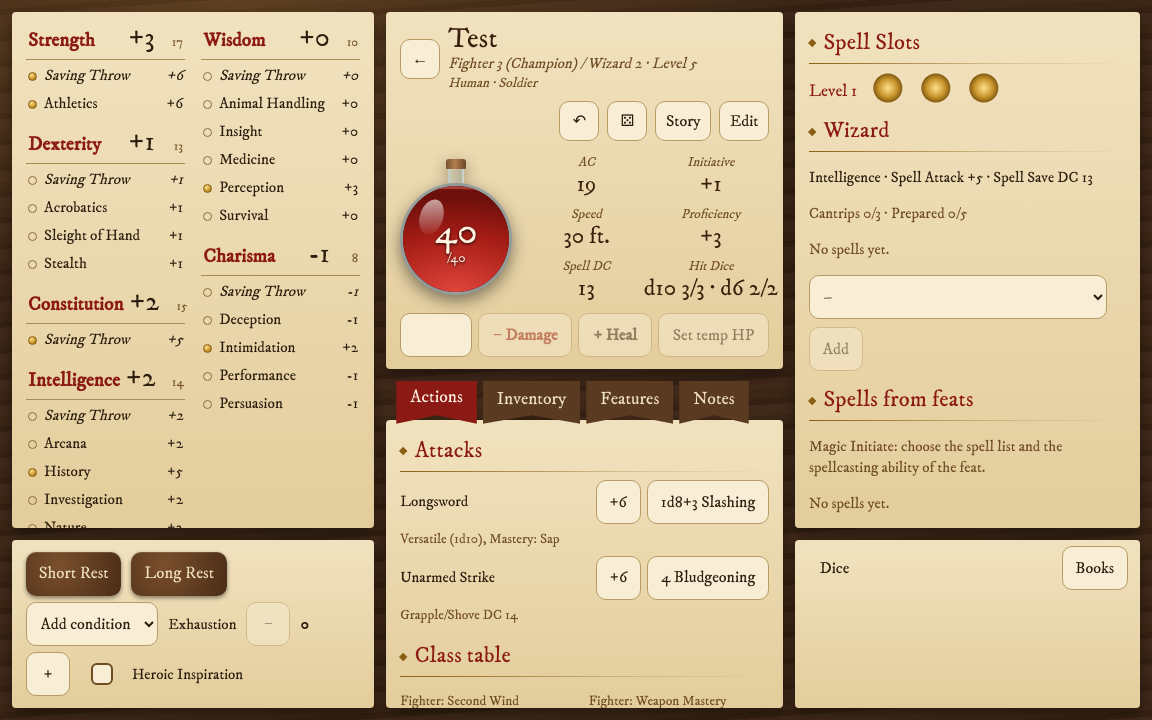
Test: features tab › groups features with SRD text and adds an override that changes the AC
Check: the element with test id "hp" is shown, box [435,208,478,267]
Click the tab "Features" at (630, 402), box [586,381,673,424]
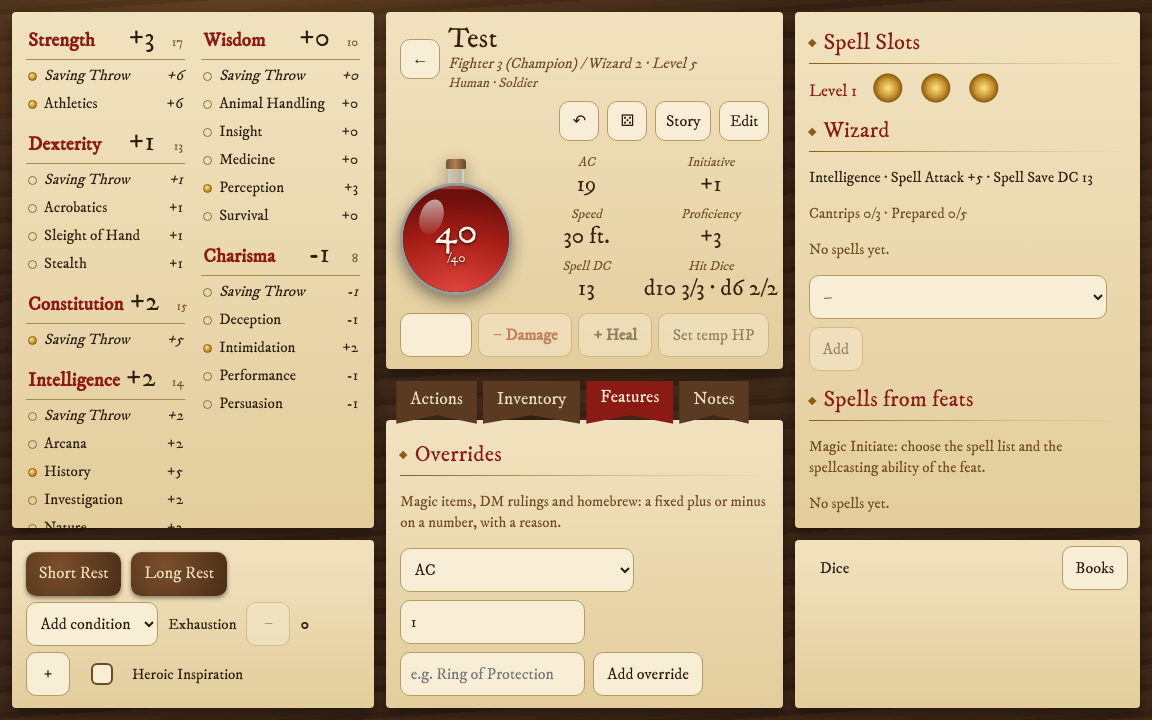
Select "AC" in the dropdown named "Number" at (517, 570), box [400,548,634,592]
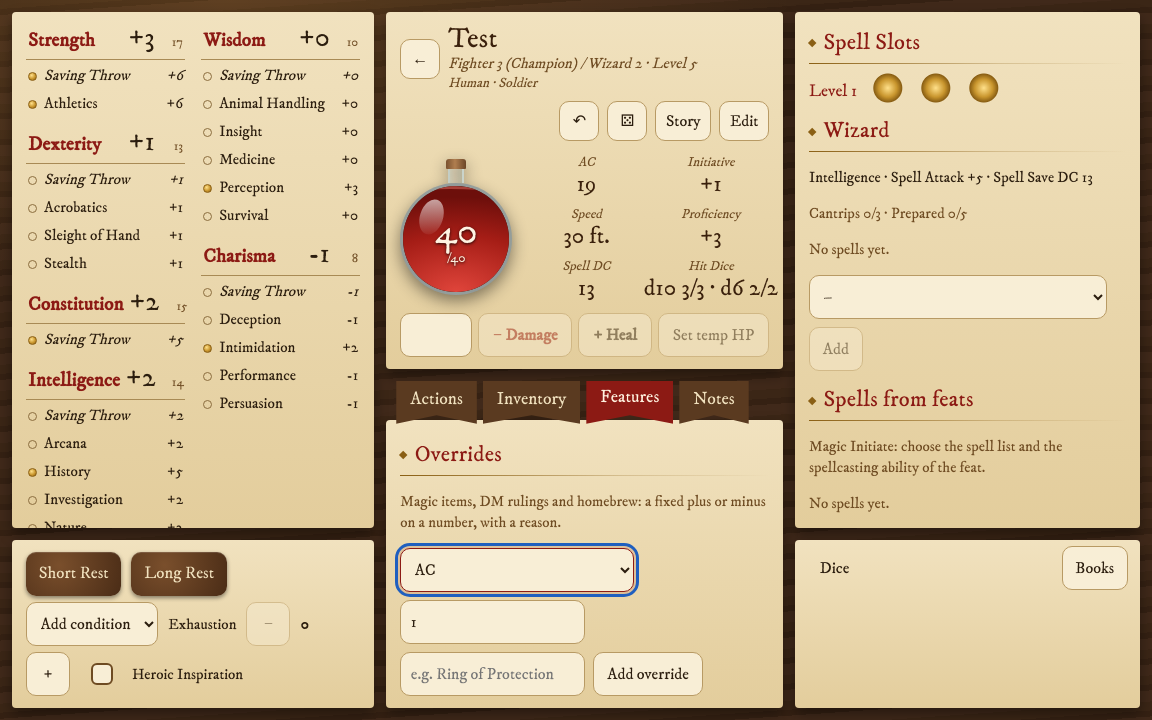
Type "Ring of Protection" into the field named "Reason" at (493, 674), box [400,652,586,696]
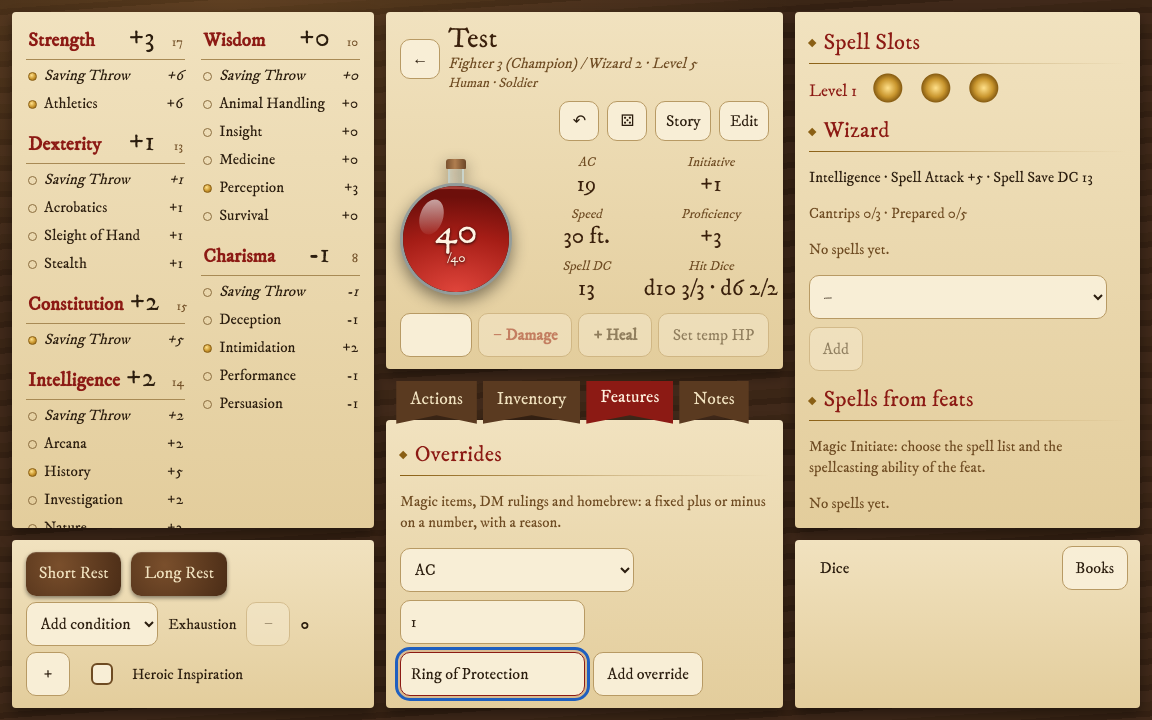
Click the button "Add override" at (648, 674), box [593,652,703,696]
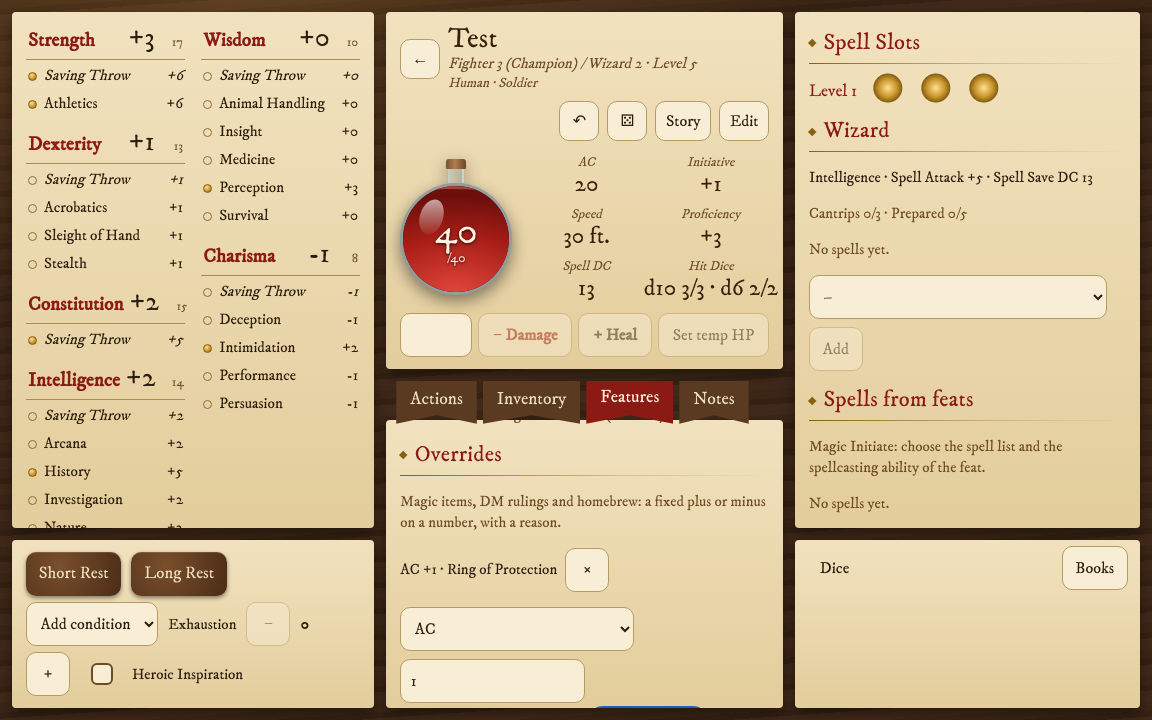
Check: the text with test id "ac" reads "20", box [574,170,598,199]
